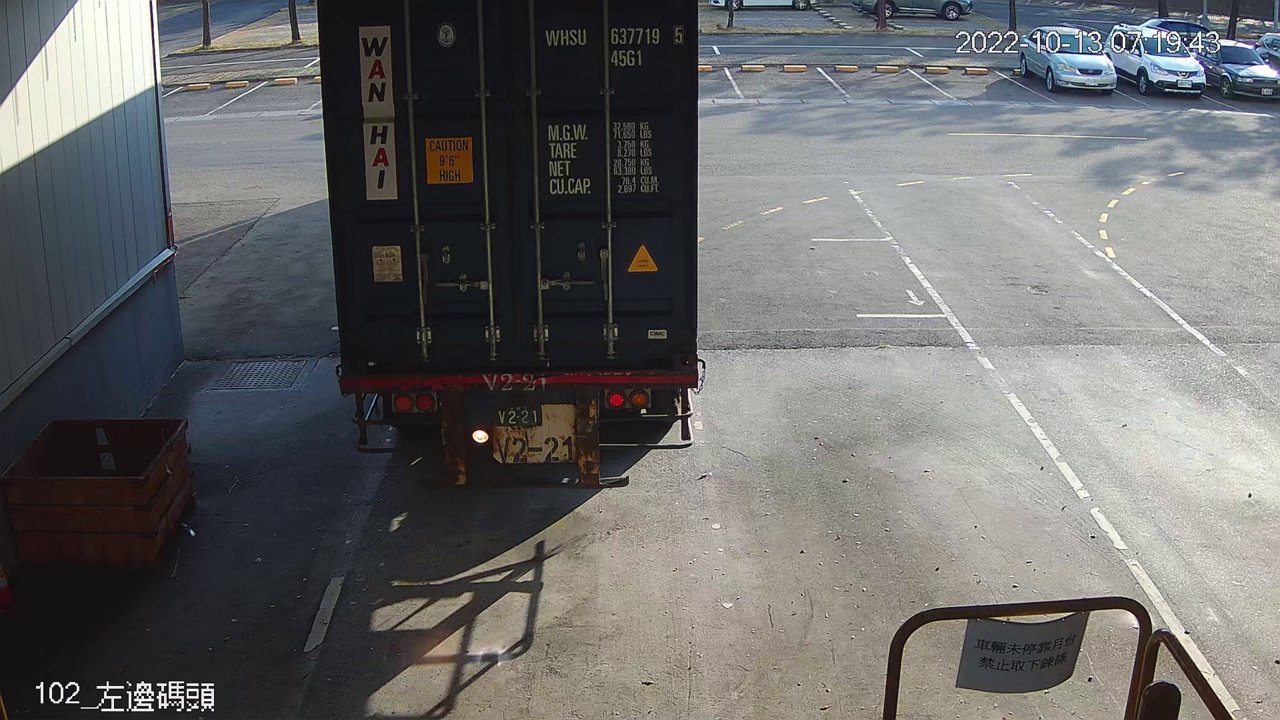container: (537, 20, 692, 72)
